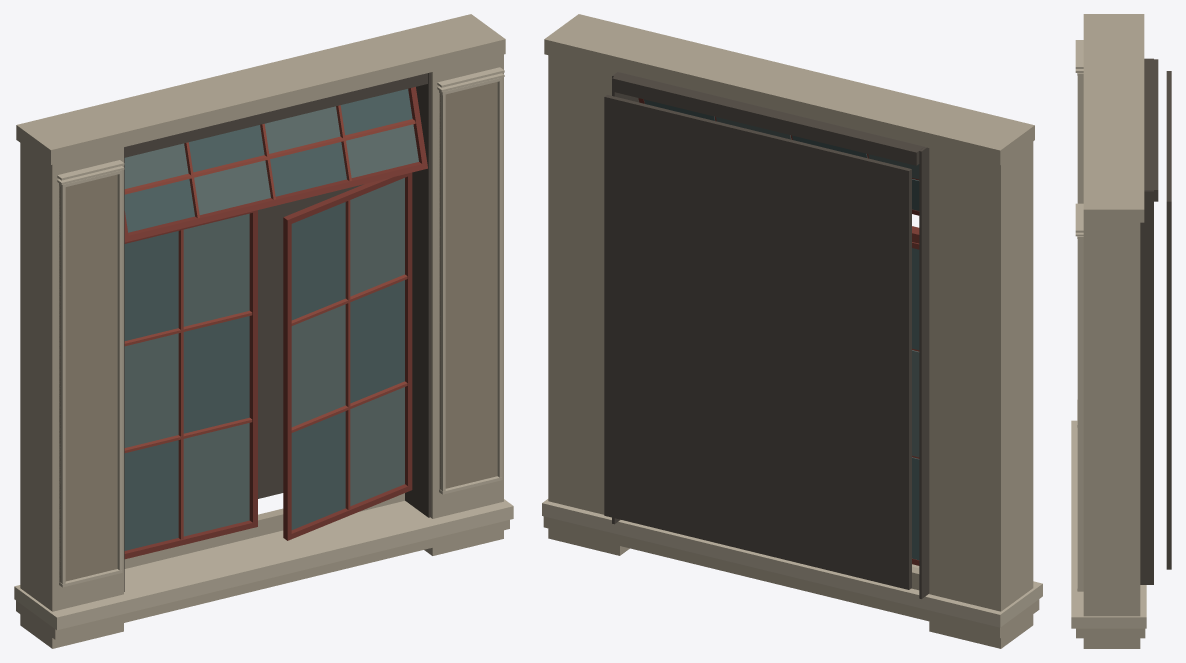
Rendered from hongkou-pingliang-25-north-casements-lod.glb.
3 views of the same model, side by side, from view 1: azimuth 30°, elevation 25°; view 2: azimuth 150°, elevation 25°; view 3: azimuth 270°, elevation 25° (orthographic). The views are drawn at different scales.
Visible parts, largest first — view 1: 平凉路25号住宅北立面第三开间外悬亮窗与石壁柱; view 2: 平凉路25号住宅北立面第三开间外悬亮窗与石壁柱; view 3: 平凉路25号住宅北立面第三开间外悬亮窗与石壁柱.
Boxes of the visible parts, box(x1,y1,x2,y2) form: 平凉路25号住宅北立面第三开间外悬亮窗与石壁柱: box(14, 14, 513, 648); 平凉路25号住宅北立面第三开间外悬亮窗与石壁柱: box(542, 14, 1042, 648); 平凉路25号住宅北立面第三开间外悬亮窗与石壁柱: box(1071, 14, 1171, 648).
Size of the model in its own units: 2.25 by 2.35 by 0.486.
